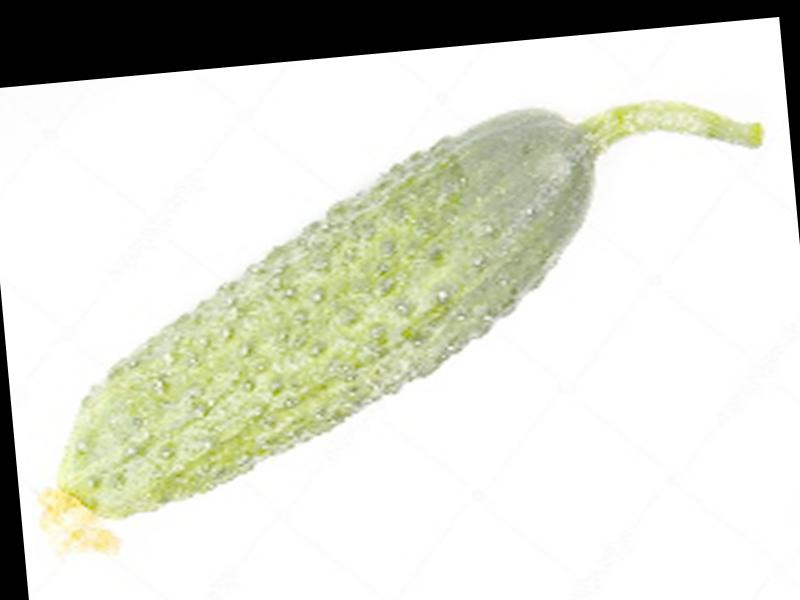Cucumber: (2, 87, 790, 566)
